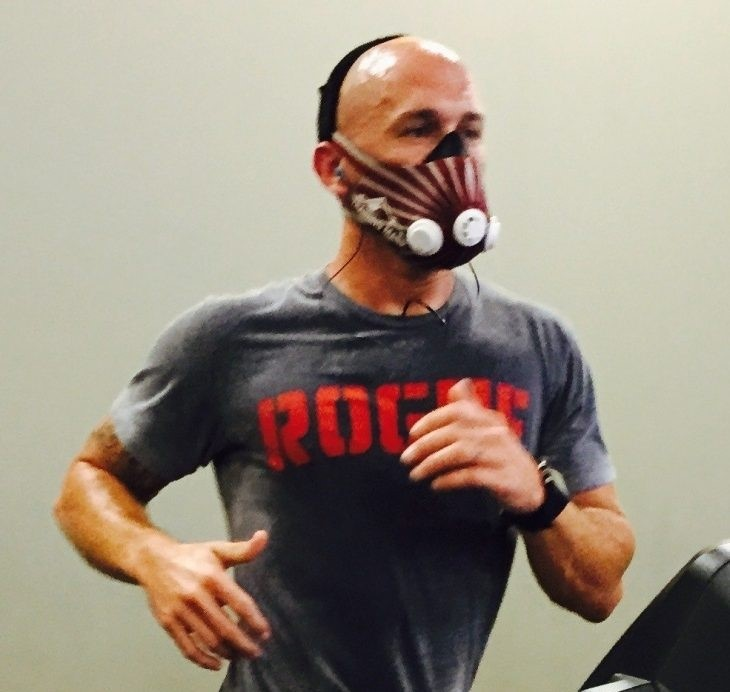face_with_mask: (312, 42, 510, 297)
